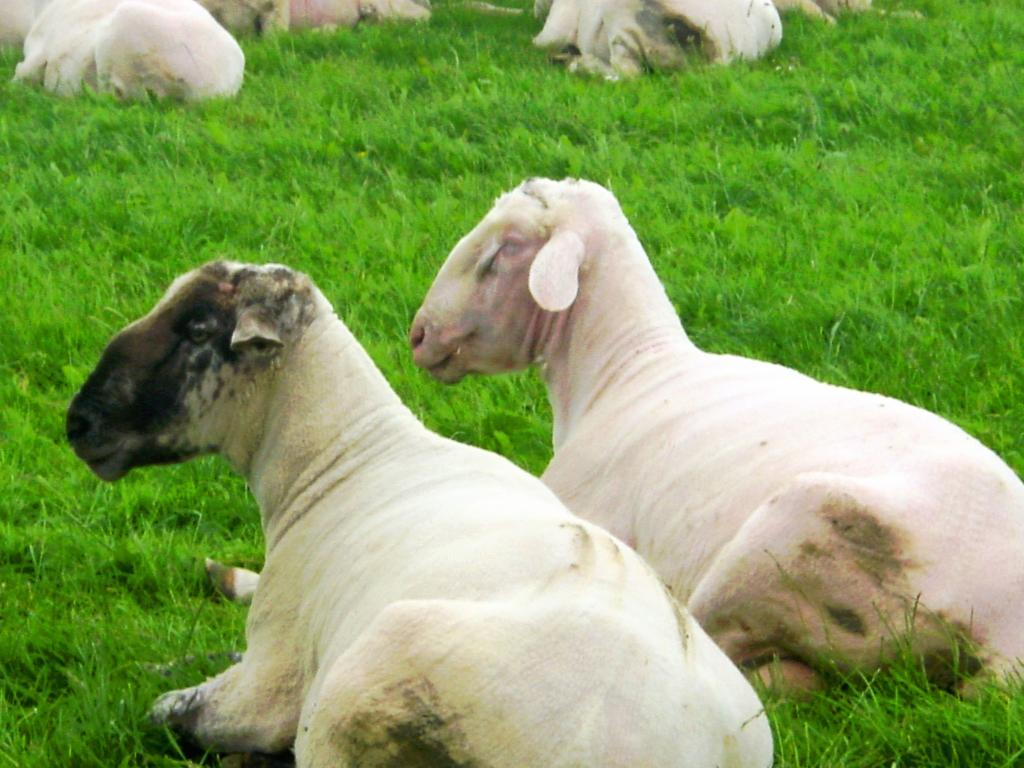Sheep: (66, 259, 772, 768), (410, 174, 1024, 708), (10, 0, 247, 103), (530, 0, 785, 78)
